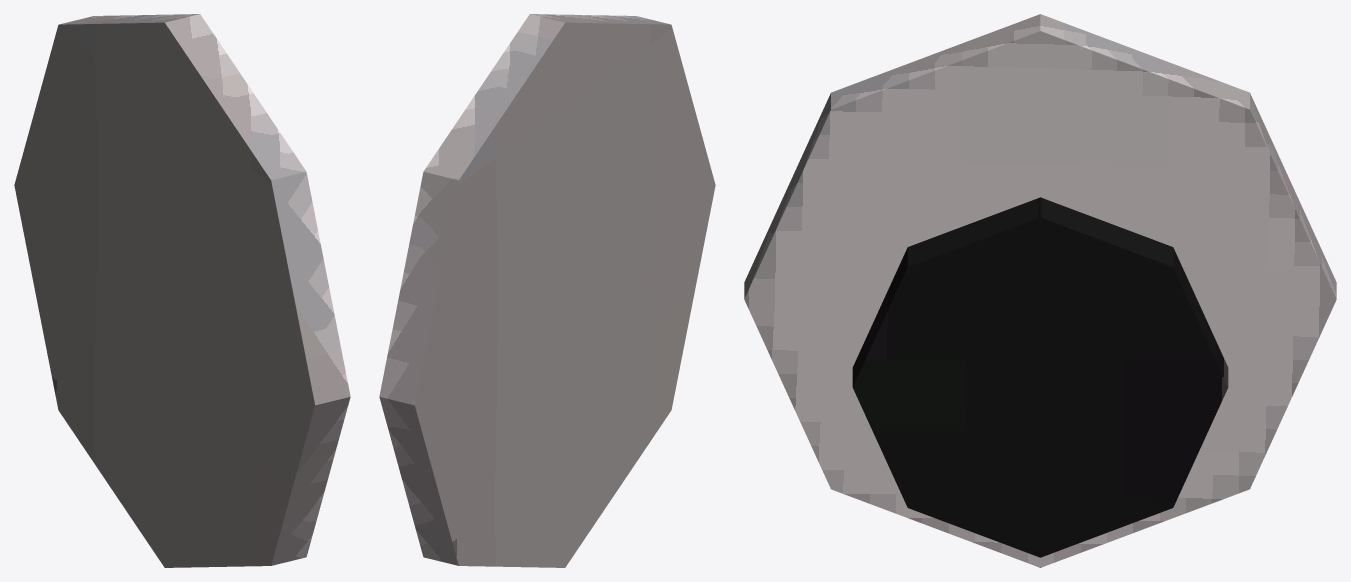
The model's file is item_eye_googly.glb.
3 views of the same model, side by side, from view 1: azimuth 30°, elevation 25°; view 2: azimuth 150°, elevation 25°; view 3: azimuth 270°, elevation 25° (orthographic).
Parts seen in each view (by area): view 1: GooglyEye_Iris; view 2: GooglyEye_Iris; view 3: GooglyEye_Iris, GooglyEye_White.
Boxes of the visible parts, x1,y1,x2,y2 form: GooglyEye_Iris: (14, 14, 350, 567); GooglyEye_Iris: (379, 14, 715, 567); GooglyEye_Iris: (744, 14, 1336, 567); GooglyEye_White: (852, 197, 1228, 557).
Bounding box in the file's own units: 0.0464 × 0.3134 × 0.3134.
Materials: 1 (1 with a texture image).
